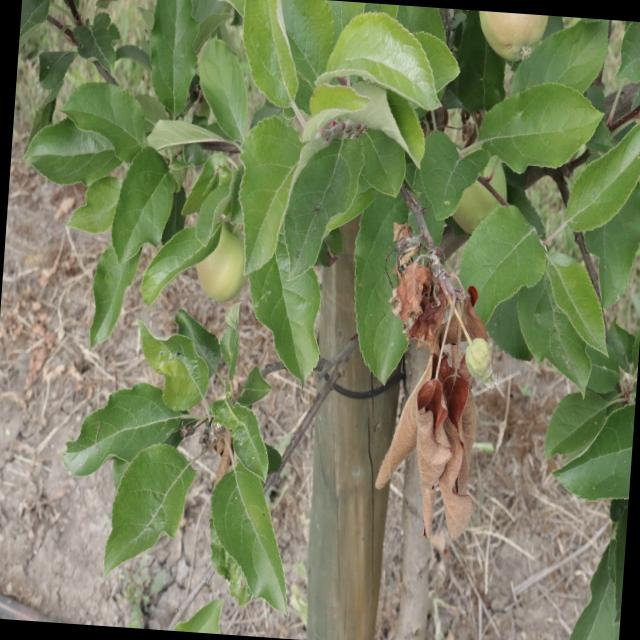-FireBlight-: (364, 221, 495, 555)
